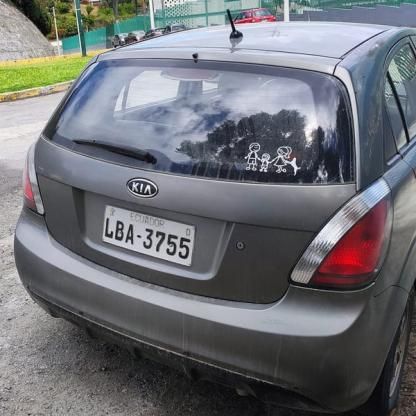Placa: (98, 203, 198, 271)
